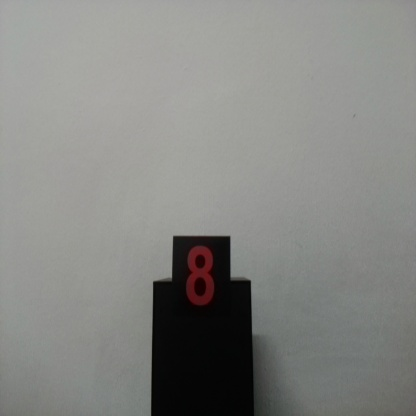id_8: (172, 237, 232, 327)
